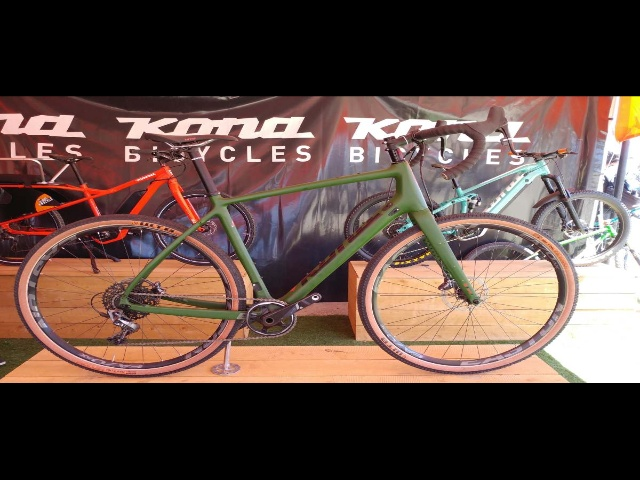bike: (18, 103, 577, 383)
